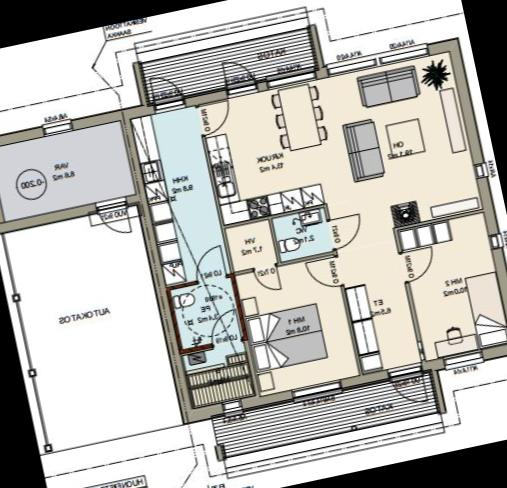door: (192, 94, 238, 138), (302, 252, 346, 297), (395, 245, 439, 288), (187, 242, 229, 287), (218, 53, 259, 99), (324, 210, 368, 252), (386, 368, 430, 410), (203, 304, 243, 350), (93, 196, 136, 238), (147, 71, 186, 111), (250, 262, 284, 296)
window: (374, 40, 435, 68), (286, 377, 347, 404), (436, 348, 488, 379), (323, 53, 379, 80), (259, 66, 317, 92), (36, 117, 76, 140), (217, 396, 246, 420), (468, 158, 493, 182), (482, 230, 506, 254)
